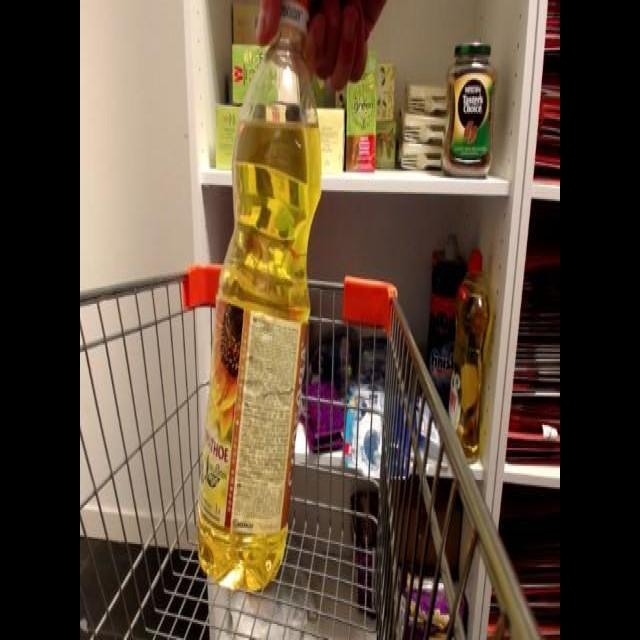Oil: (192, 3, 328, 601)
